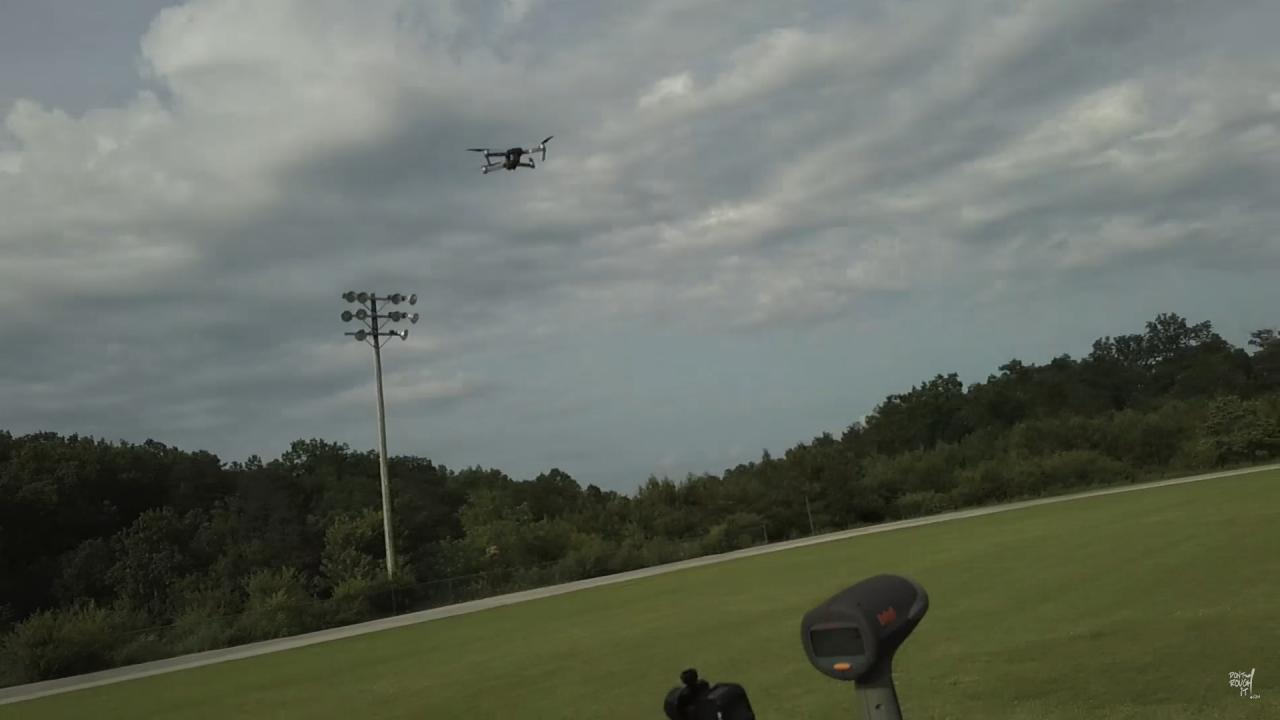Drone: (456, 126, 564, 185)
